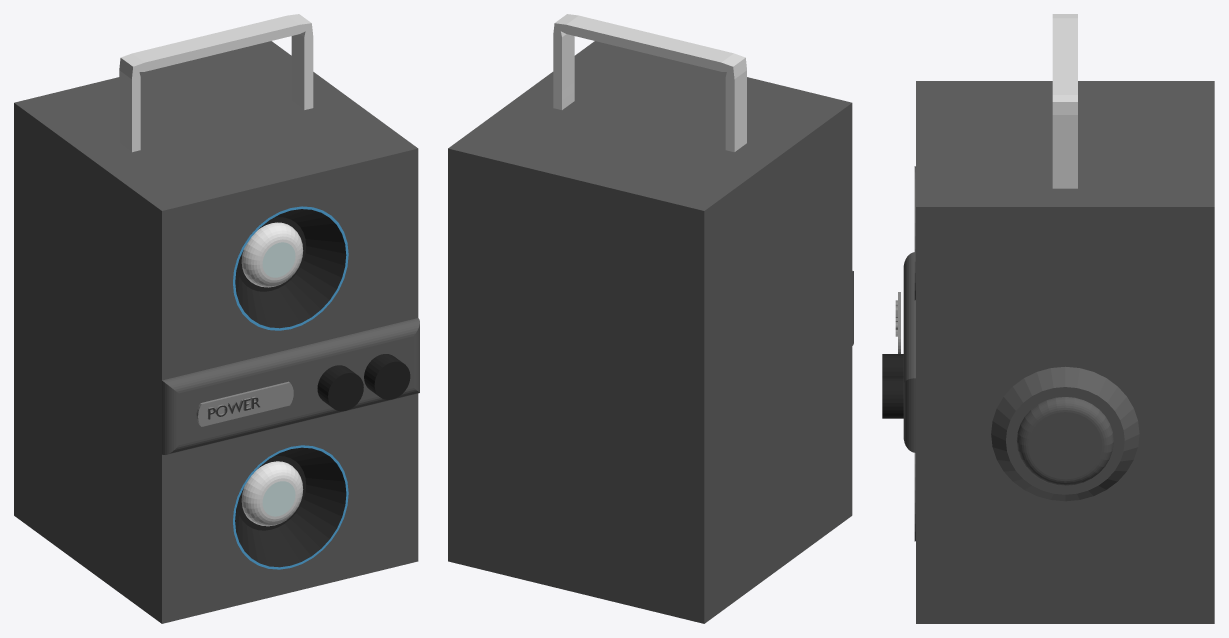
Rendered from Speaker 1.fbx.
The picture shows the model from 3 angles, left to right: view 1: azimuth 30°, elevation 25°; view 2: azimuth 150°, elevation 25°; view 3: azimuth 270°, elevation 25°; orthographic projection.
Parts seen in each view (by area): view 1: Speaker; view 2: Speaker; view 3: Speaker.
Boxes of the visible parts, x1,y1,x2,y2 form: Speaker: (14, 14, 419, 623); Speaker: (448, 14, 853, 623); Speaker: (882, 14, 1214, 623).
Size of the model in its own units: 805 by 1414 by 820.
